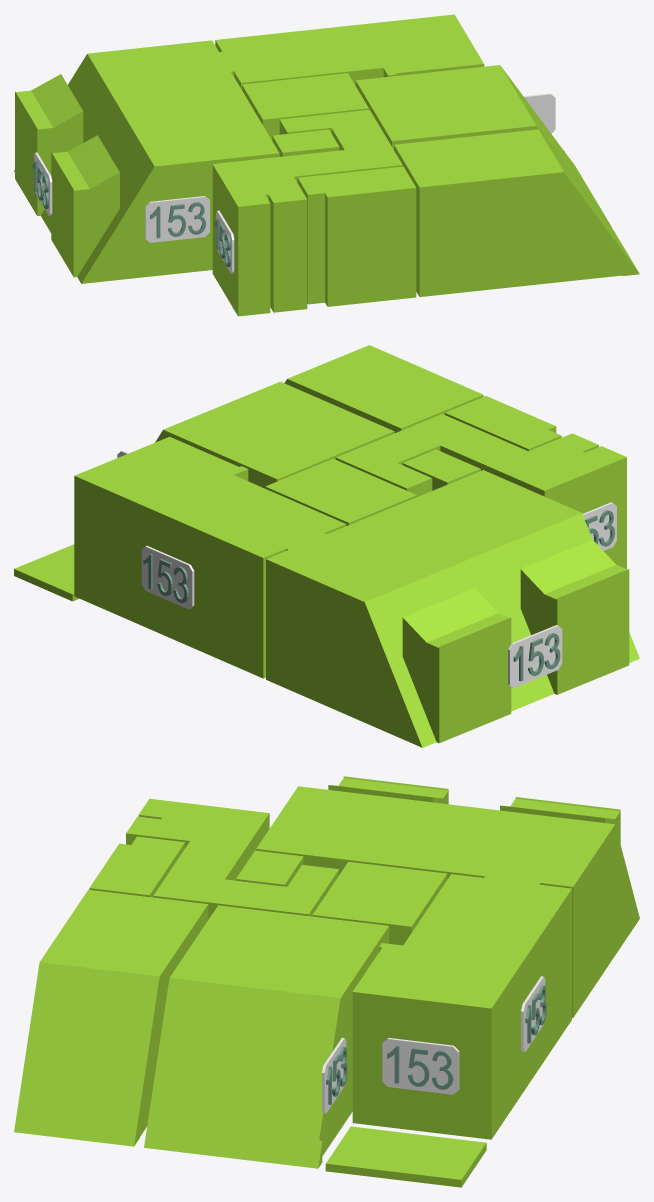
The picture shows the model from 3 angles, top to bottom: view 1: azimuth 30°, elevation 25°; view 2: azimuth 150°, elevation 25°; view 3: azimuth 270°, elevation 25°; orthographic projection. The views are drawn at different scales.
Parts seen in each view (by area): view 1: g_0, g_3, g_5, g_7, g_1, g_2, g_4, g_16, g_6, g_20, g_32, g_28; view 2: g_0, g_1, g_5, g_2, g_3, g_4, g_7, g_8, g_28, g_12, g_6, g_32; view 3: g_2, g_1, g_0, g_3, g_5, g_8, g_4, g_7, g_24, g_6, g_20, g_12.
Boxes of the visible parts, x1=… form: g_0: x1=14, y1=40, x2=279, y2=283; g_3: x1=394, y1=129, x2=639, y2=296; g_5: x1=212, y1=109, x2=402, y2=316; g_7: x1=297, y1=166, x2=416, y2=306; g_1: x1=215, y1=14, x2=484, y2=89; g_2: x1=355, y1=65, x2=611, y2=227; g_4: x1=242, y1=73, x2=368, y2=140; g_16: x1=145, y1=196, x2=209, y2=242; g_6: x1=272, y1=129, x2=339, y2=156; g_20: x1=523, y1=93, x2=555, y2=133; g_32: x1=216, y1=210, x2=234, y2=273; g_28: x1=34, y1=152, x2=52, y2=215; g_0: x1=266, y1=470, x2=639, y2=747; g_1: x1=74, y1=436, x2=346, y2=678; g_5: x1=335, y1=414, x2=626, y2=568; g_2: x1=155, y1=381, x2=394, y2=488; g_3: x1=284, y1=345, x2=483, y2=432; g_4: x1=265, y1=458, x2=416, y2=525; g_7: x1=445, y1=396, x2=561, y2=451; g_8: x1=14, y1=544, x2=79, y2=601; g_28: x1=508, y1=625, x2=562, y2=687; g_12: x1=141, y1=546, x2=194, y2=609; g_6: x1=402, y1=449, x2=480, y2=490; g_32: x1=582, y1=502, x2=616, y2=550; g_2: x1=144, y1=905, x2=389, y2=1168; g_1: x1=352, y1=874, x2=571, y2=1139; g_0: x1=256, y1=776, x2=639, y2=1017; g_3: x1=14, y1=889, x2=208, y2=1146; g_5: x1=126, y1=798, x2=338, y2=919; g_8: x1=325, y1=1126, x2=486, y2=1187; g_4: x1=312, y1=861, x2=447, y2=945; g_7: x1=89, y1=836, x2=185, y2=897; g_24: x1=382, y1=1038, x2=459, y2=1094; g_6: x1=236, y1=850, x2=303, y2=886; g_20: x1=322, y1=1037, x2=346, y2=1113; g_12: x1=521, y1=976, x2=545, y2=1052.
Bounding box in the file's own units: 12.42 × 2.71 × 11.01.
